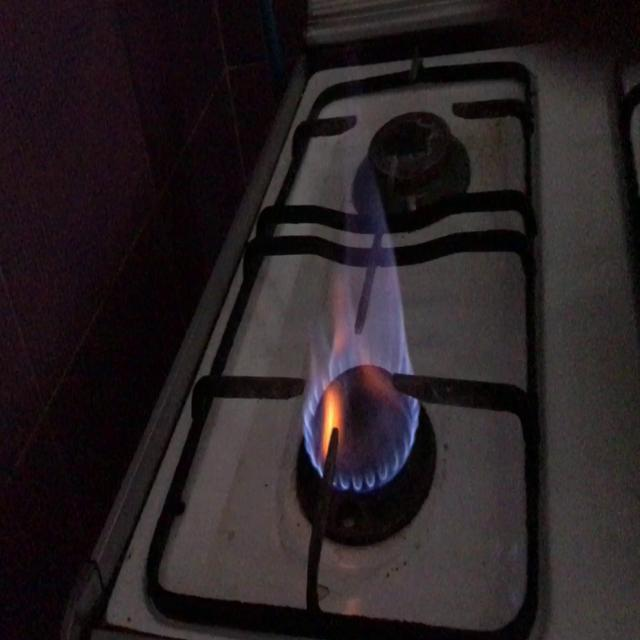Fire: (290, 193, 422, 480)
